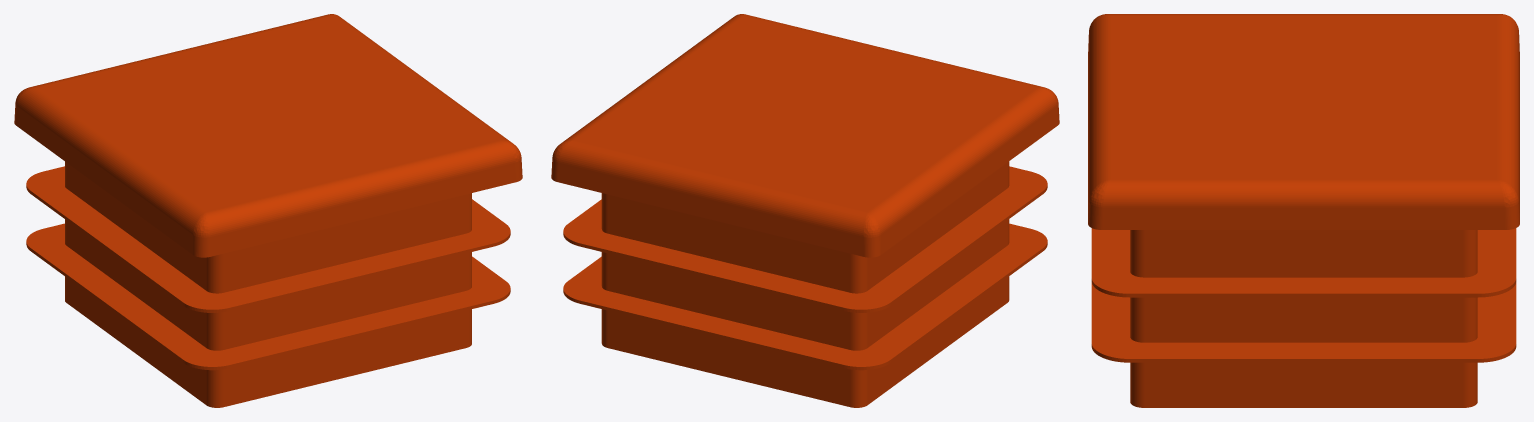
File: 60x60_inner_new.obj
3 renders of one model, left to right at view 1: azimuth 30°, elevation 25°; view 2: azimuth 150°, elevation 25°; view 3: azimuth 270°, elevation 25°, orthographic. The views are drawn at different scales.
Visible parts, largest first — view 1: 60x60_inner_new; view 2: 60x60_inner_new; view 3: 60x60_inner_new.
Boxes of the visible parts, x1,y1,x2,y2 form: 60x60_inner_new: (14, 14, 522, 407); 60x60_inner_new: (551, 14, 1059, 407); 60x60_inner_new: (1088, 14, 1519, 407).
Size of the model in its own units: 60 by 36.3 by 60.
